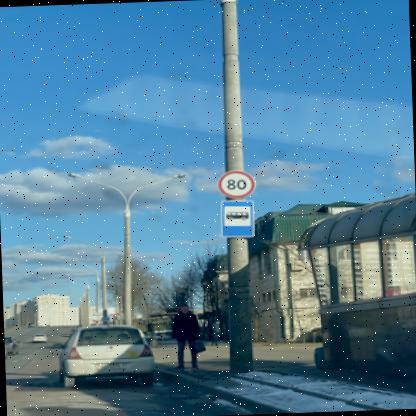speedlimit: (215, 168, 253, 198)
